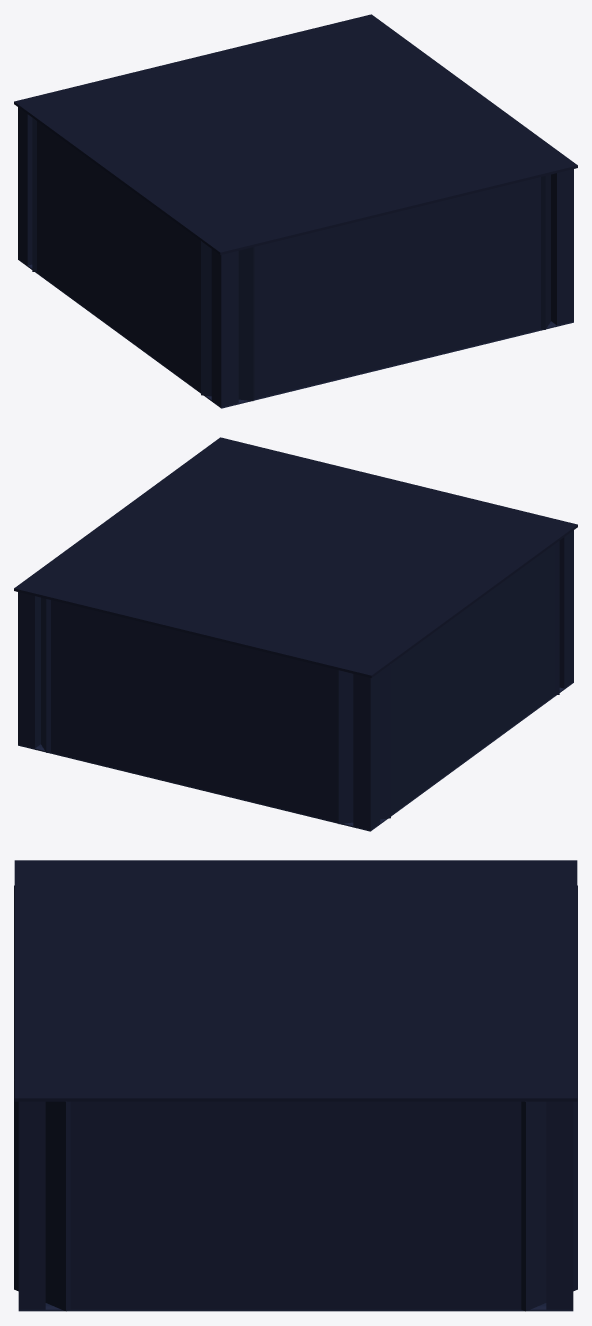
The model's file is skyline.glb.
3 renders of one model, top to bottom at view 1: azimuth 30°, elevation 25°; view 2: azimuth 150°, elevation 25°; view 3: azimuth 270°, elevation 25°, orthographic. The views are drawn at different scales.
Visible parts, largest first — view 1: Wall_Wall, Roof_Roof, Floor_Floor; view 2: Wall_Wall, Roof_Roof, Floor_Floor; view 3: Roof_Roof, Wall_Wall, Floor_Floor.
Boxes of the visible parts, x1,y1,x2,y2 form: Wall_Wall: [18, 107, 573, 407]; Roof_Roof: [14, 14, 577, 254]; Floor_Floor: [18, 258, 573, 408]; Wall_Wall: [18, 530, 573, 830]; Roof_Roof: [14, 437, 577, 677]; Floor_Floor: [18, 681, 573, 831]; Roof_Roof: [14, 860, 577, 1101]; Wall_Wall: [14, 885, 577, 1311]; Floor_Floor: [18, 1306, 573, 1311].
Size of the model in its own units: 293 by 123 by 293.
